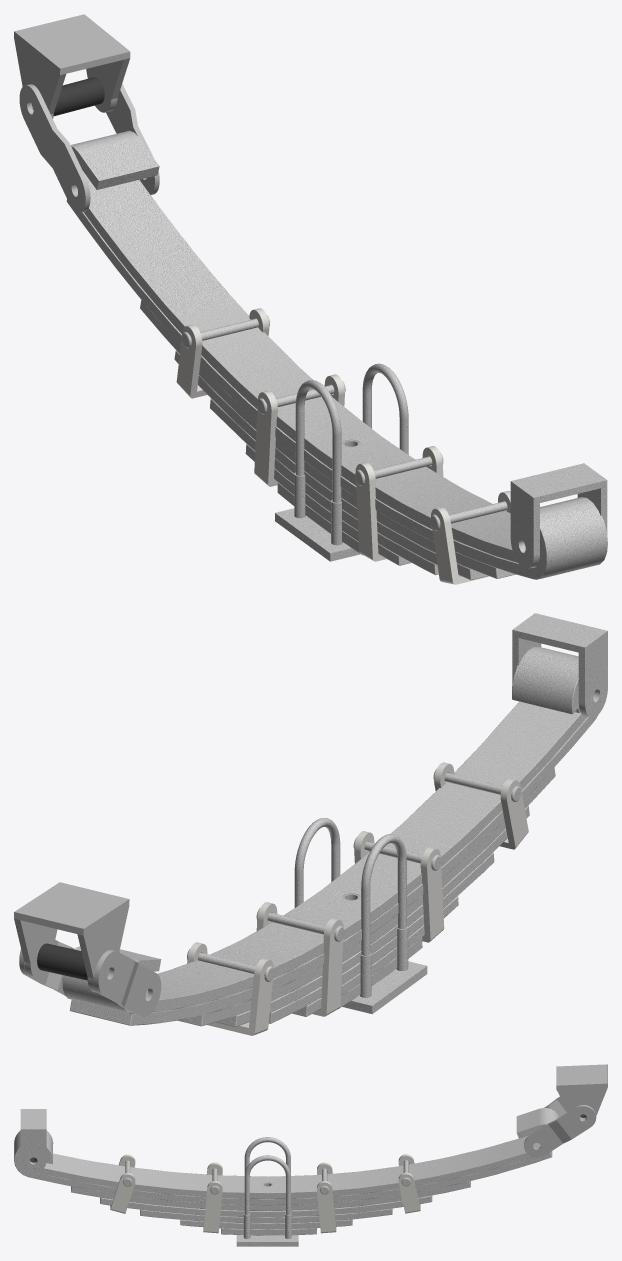
Rendered from Leaf_Spring.glb.
The picture shows the model from 3 angles, top to bottom: view 1: azimuth 30°, elevation 25°; view 2: azimuth 150°, elevation 25°; view 3: azimuth 270°, elevation 25°; orthographic projection. The views are drawn at different scales.
Parts seen in each view (by area): view 1: Leaf-Layer, Support-Chassis, Support-Chassis Rigid, Clamp-Center, Support.001, Clamp-Primary.002, Clamp-Primary.003, Clamp-Secondary.004, Clamp-Center.002, Clamp-Secondary.003, Support-Rubber, Support; view 2: Leaf-Layer, Support-Chassis, Support-Chassis Rigid, Clamp-Center, Support.001, Clamp-Primary.003, Clamp-Primary.002, Clamp-Secondary.004, Clamp-Center.002, Clamp-Secondary.003, Support-Rubber, Clamp-Primary.001 (+3 smaller); view 3: Leaf-Layer, Support-Chassis, Support, Support-Chassis Rigid, Clamp-Center, Clamp-Primary.002, Clamp-Primary.003, Clamp-Secondary.003, Clamp-Secondary.004, Clamp-Center.002.
Part boxes in pixels (x1,y1,x2,y2): Leaf-Layer: (66, 130, 607, 580); Support-Chassis: (14, 14, 130, 118); Support-Chassis Rigid: (510, 463, 607, 568); Clamp-Center: (294, 363, 408, 545); Support.001: (19, 84, 90, 212); Clamp-Primary.002: (355, 446, 443, 561); Clamp-Primary.003: (254, 374, 344, 486); Clamp-Secondary.004: (176, 308, 269, 398); Clamp-Center.002: (275, 508, 360, 561); Clamp-Secondary.003: (431, 491, 510, 584); Support-Rubber: (53, 77, 104, 116); Support: (106, 83, 159, 194); Leaf-Layer: (62, 647, 597, 1026); Support-Chassis: (14, 882, 129, 992); Support-Chassis Rigid: (512, 613, 607, 717); Clamp-Center: (294, 818, 408, 997); Support.001: (94, 950, 161, 1016); Clamp-Primary.003: (256, 902, 343, 1016); Clamp-Primary.002: (354, 831, 444, 942); Clamp-Secondary.004: (187, 942, 273, 1035); Clamp-Center.002: (342, 961, 427, 1014); Clamp-Secondary.003: (434, 762, 528, 849); Support-Rubber: (37, 943, 87, 980); Clamp-Primary.001: (256, 908, 344, 941); Leaf-Layer: (14, 1107, 559, 1235); Support-Chassis: (556, 1064, 607, 1119); Support: (524, 1105, 596, 1157); Support-Chassis Rigid: (20, 1109, 46, 1172); Clamp-Center: (243, 1137, 291, 1238); Clamp-Primary.002: (203, 1162, 222, 1233); Clamp-Primary.003: (317, 1162, 336, 1233); Clamp-Secondary.003: (110, 1154, 135, 1213); Clamp-Secondary.004: (398, 1154, 420, 1213); Clamp-Center.002: (236, 1235, 298, 1246).
Size of the model in its own units: 0.124 by 0.3402 by 1.15.
Materials: 19 (8 with a texture image).
